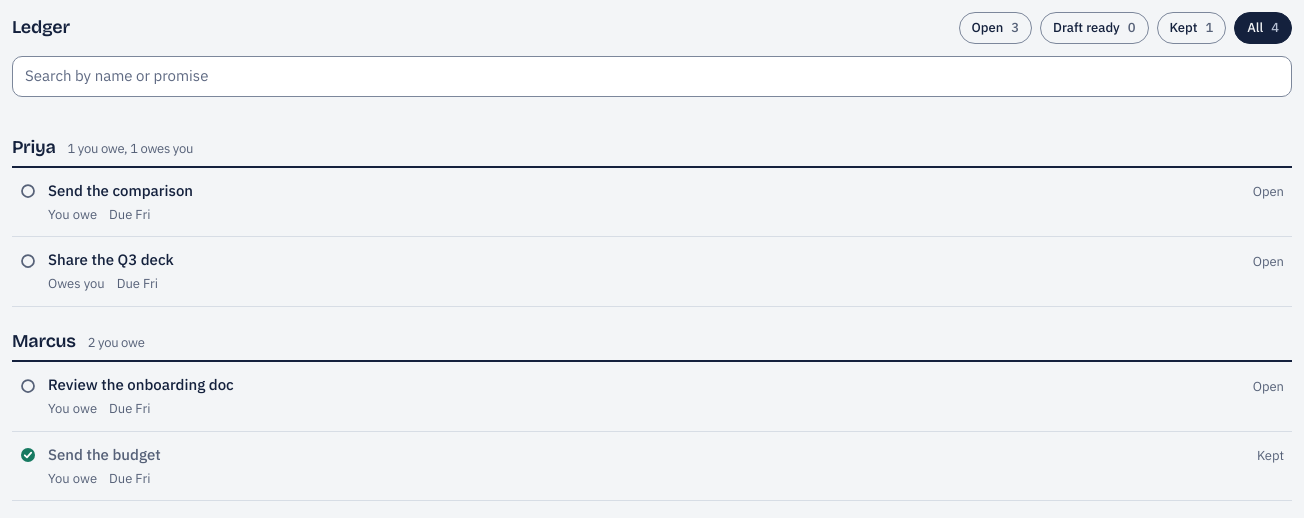
Test: Ledger search › filters by a person's name and keeps the group headings honest
Type "marc" into the search field named "Search the ledger" at (652,76), box [12,56,1292,96]
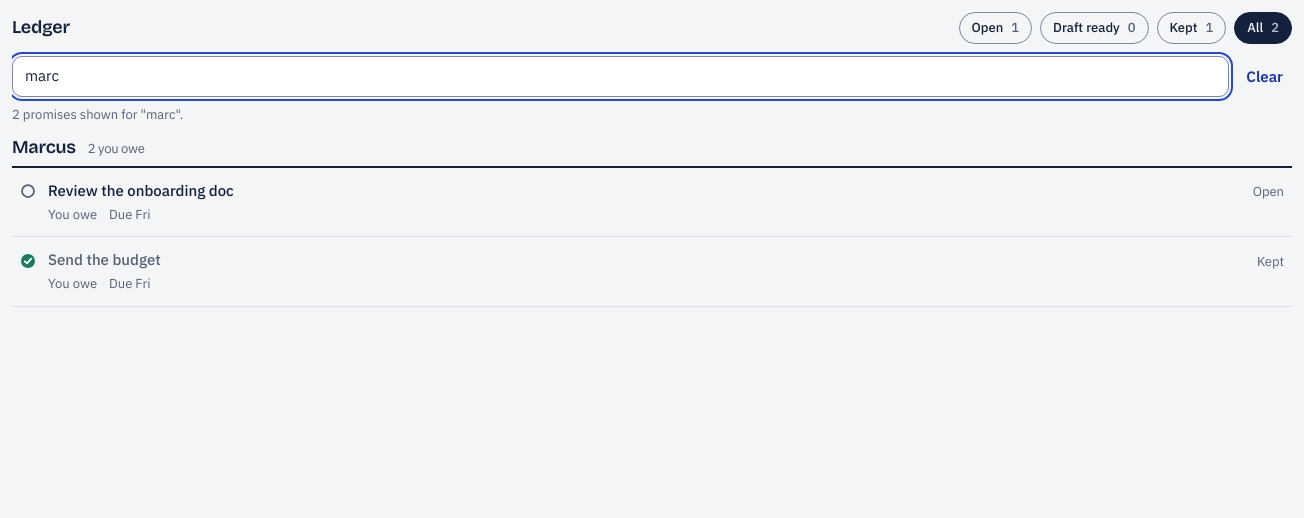
Expected: the heading "Marcus 2 you owe" is shown, [12,136,1292,168]
Expected: the heading "Priya" is gone
Expected: the number of buttons "Review the onboarding doc You owe Due Fri Open" is 2, [12,168,1292,238]; [12,238,1292,307]
